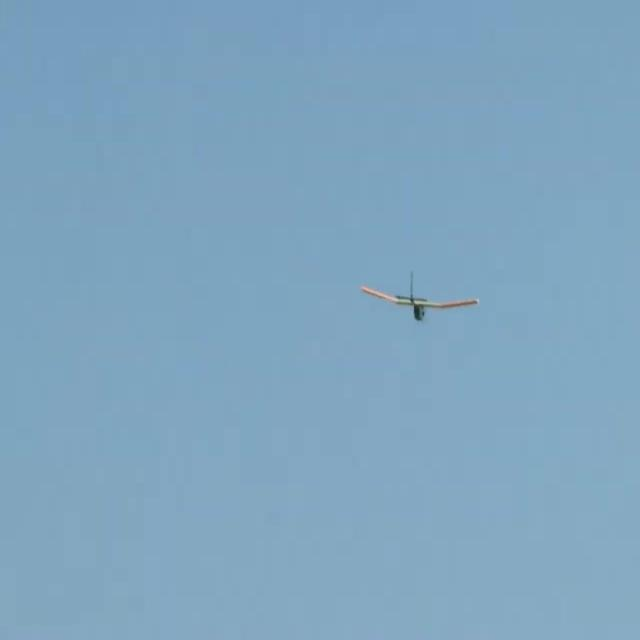iha: (392, 270, 448, 323)
